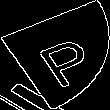P_NW: (17, 23, 93, 87)
